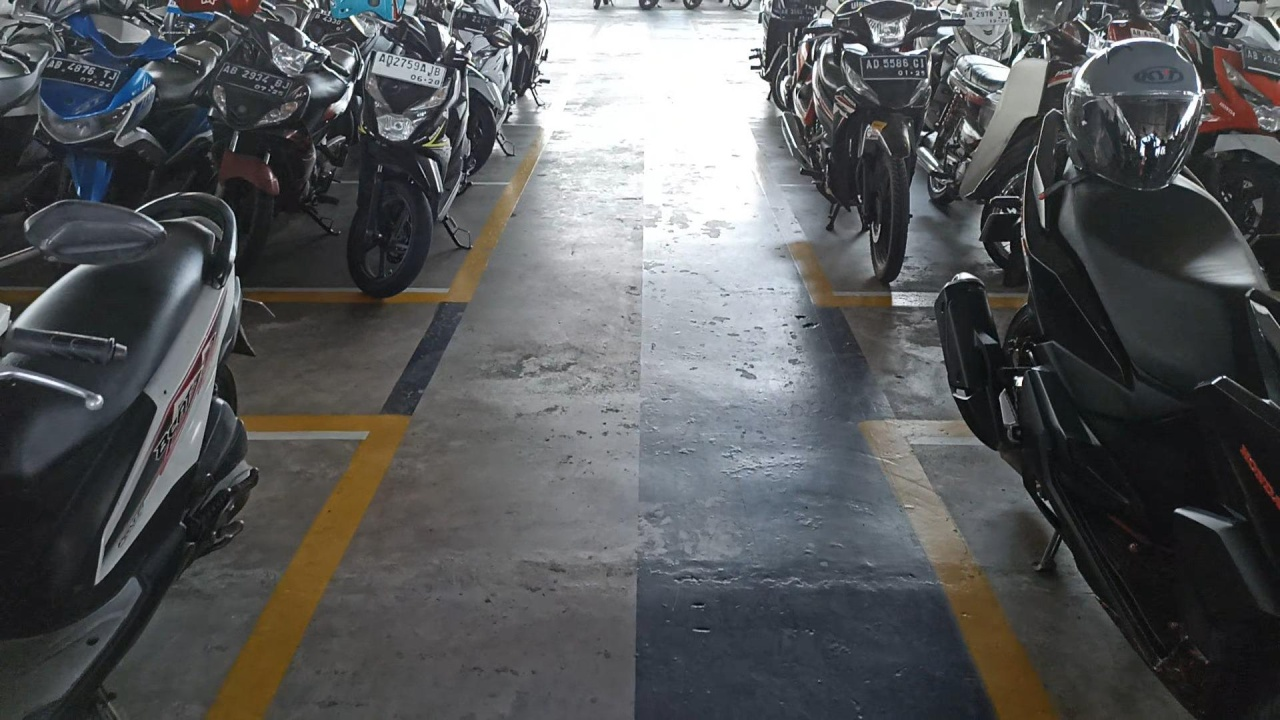plate: (371, 51, 448, 90), (216, 62, 293, 100), (39, 58, 121, 91), (860, 56, 929, 80), (964, 10, 1010, 25)
